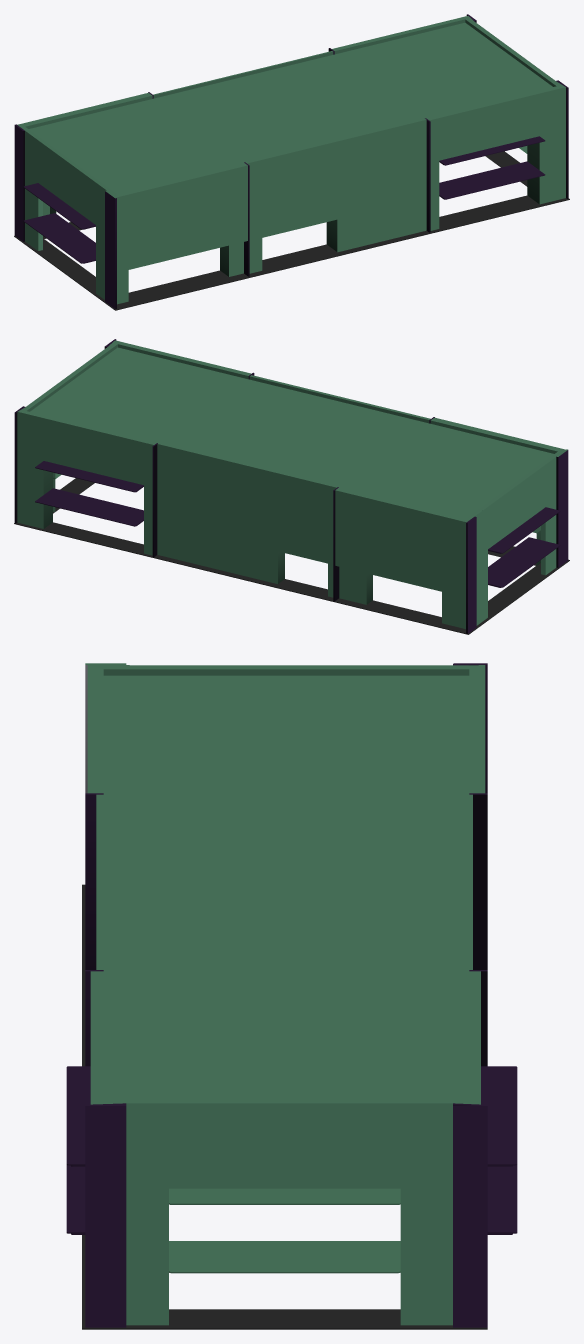
Rendered from Building_001_1st_L0.fbx.
3 views of the same model, one above another, from view 1: azimuth 30°, elevation 25°; view 2: azimuth 150°, elevation 25°; view 3: azimuth 270°, elevation 25° (orthographic). The views are drawn at different scales.
Visible parts, largest first — view 1: Building_001_1st_L0; view 2: Building_001_1st_L0; view 3: Building_001_1st_L0.
Part boxes in pixels (x1,y1,x2,y2): Building_001_1st_L0: [14, 14, 569, 310]; Building_001_1st_L0: [14, 339, 569, 634]; Building_001_1st_L0: [66, 663, 517, 1329].
Bounding box in the file's own units: 76.41 × 17 × 31.11.
